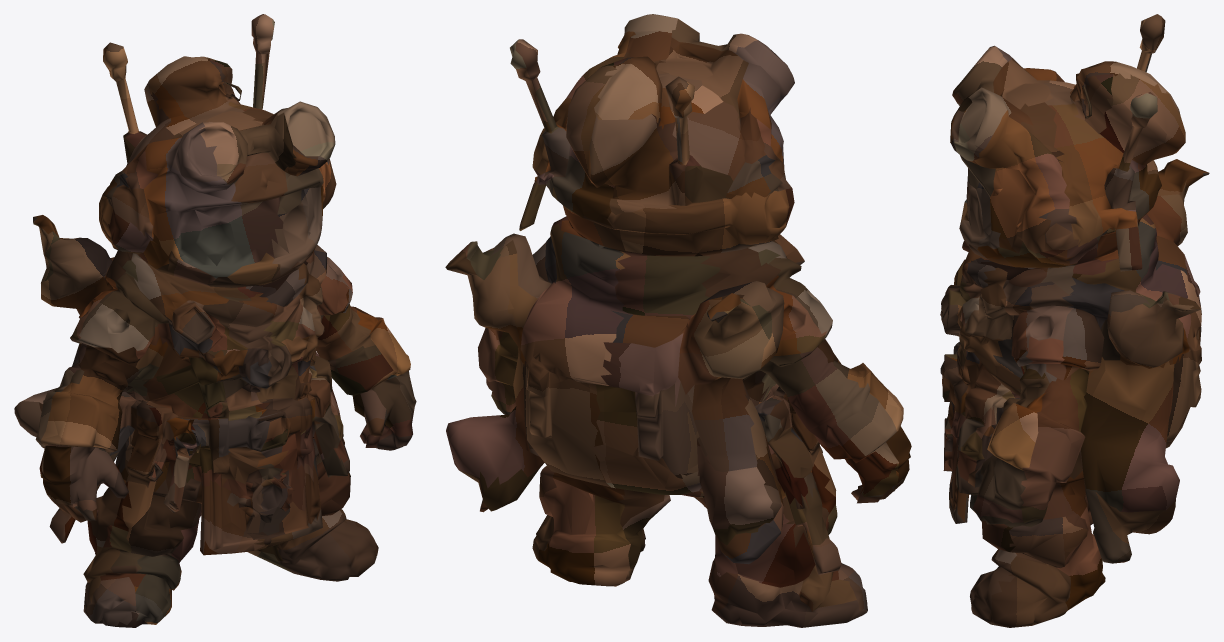
File: codex.glb
3 renders of one model, left to right at view 1: azimuth 30°, elevation 25°; view 2: azimuth 150°, elevation 25°; view 3: azimuth 270°, elevation 25°, orthographic. The views are drawn at different scales.
Visible parts, largest first — view 1: Codex_BrowserExport; view 2: Codex_BrowserExport; view 3: Codex_BrowserExport.
Part boxes in pixels (x1,y1,x2,y2): Codex_BrowserExport: (14, 14, 416, 627); Codex_BrowserExport: (445, 14, 911, 627); Codex_BrowserExport: (940, 14, 1209, 627).
Bounding box in the file's own units: 0.7379 × 0.9778 × 0.4571.
Materials: 1 (1 with a texture image).
